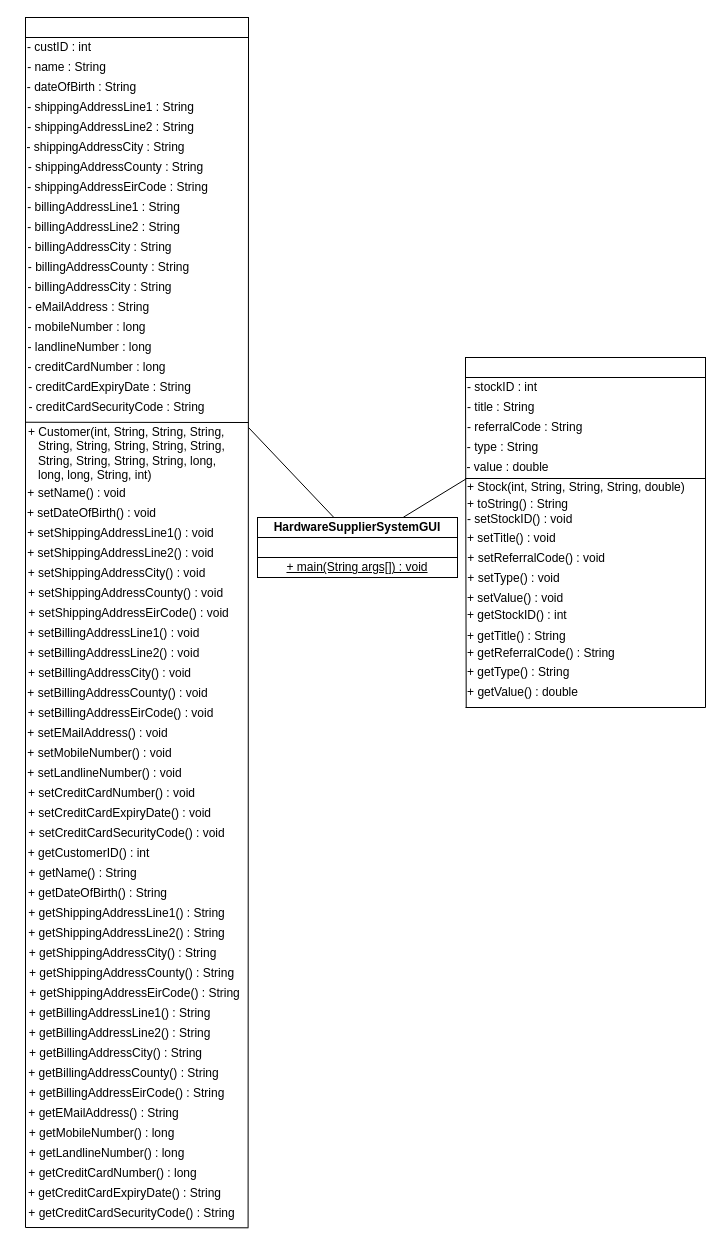
This 724x1247 diagram has some shape labels left out. Each missing label, with the box of its shape:
Customer: (24, 16, 248, 38)
Stock: (464, 356, 706, 378)
